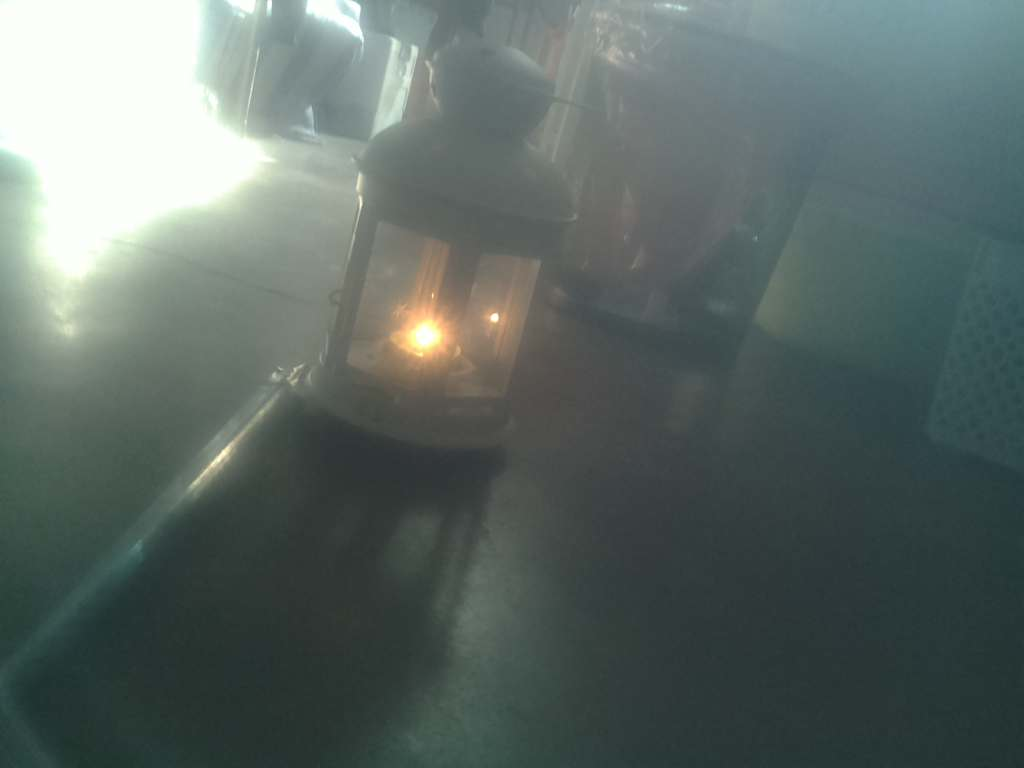fire: (384, 310, 469, 377)
